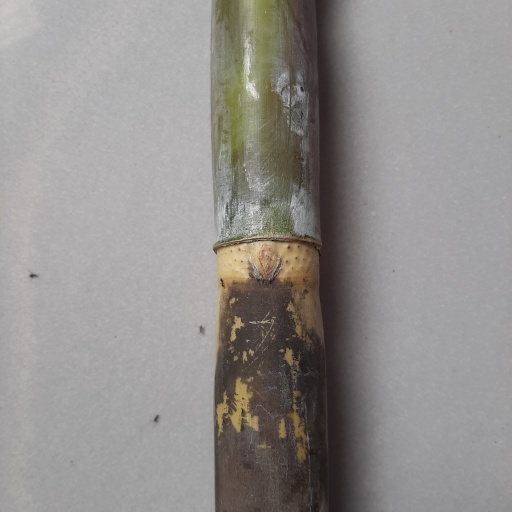Bud: (249, 243, 284, 283)
